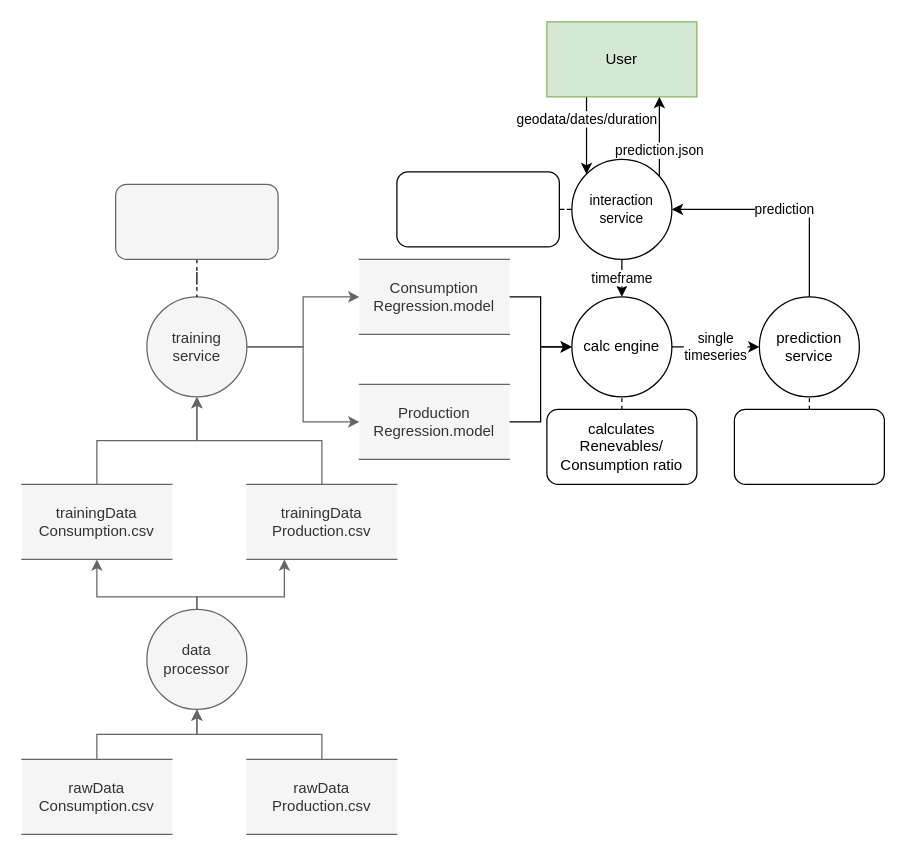
Image size: 906x856. Some labels were removed from this diagram. Each missing label, with the box of its shape:
searches for best suitable timeframe: (733, 408, 884, 484)
trains model: (114, 183, 278, 259)
validates geo data and calculate timeframe: (396, 171, 559, 247)
